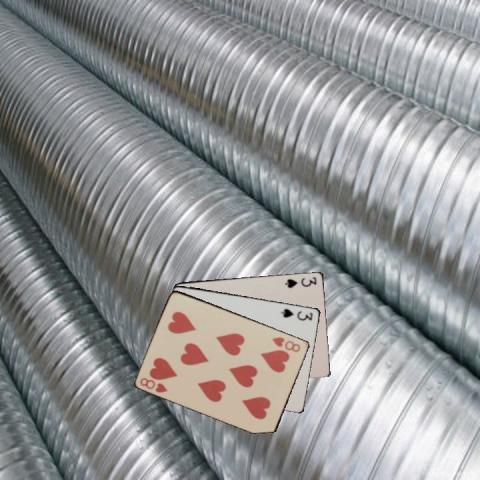3s: (279, 305, 314, 322), (283, 274, 318, 289)
8h: (269, 334, 302, 353), (138, 375, 169, 394)
